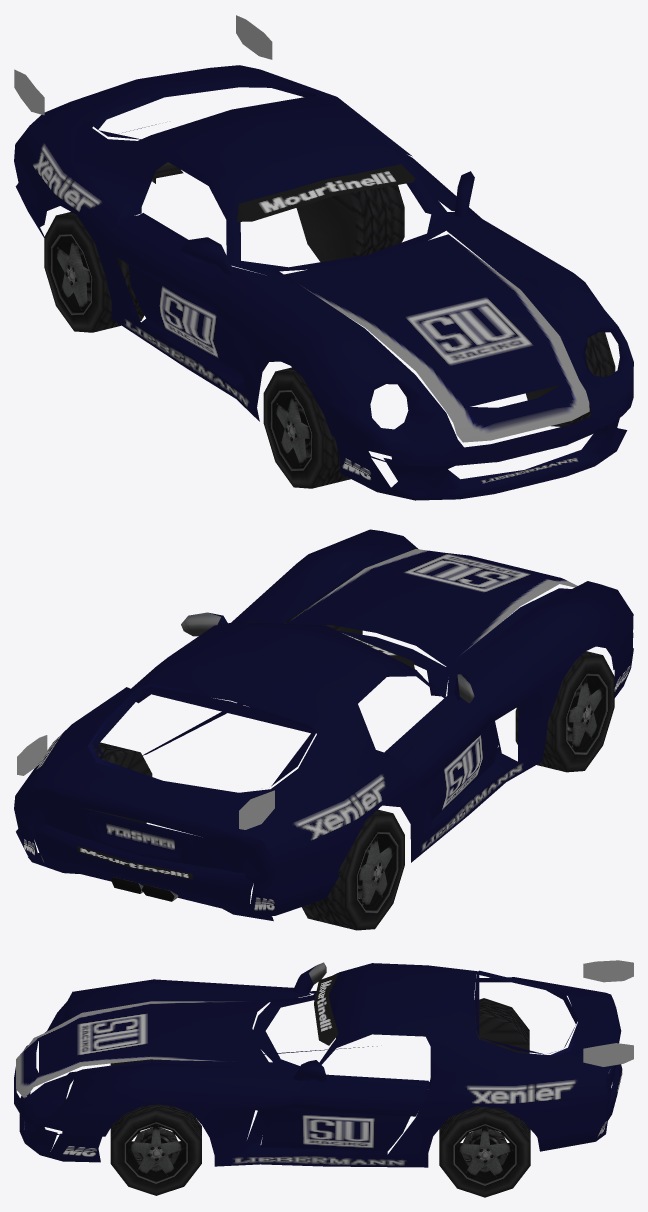
Rendered from car-MSCL_Car5.glb.
3 views of the same model, one above another, from view 1: azimuth 30°, elevation 25°; view 2: azimuth 150°, elevation 25°; view 3: azimuth 270°, elevation 25° (orthographic). The views are drawn at different scales.
Parts seen in each view (by area): view 1: MSCL_Car5; view 2: MSCL_Car5; view 3: MSCL_Car5.
Part boxes in pixels (x1,y1,x2,y2): MSCL_Car5: (14,15,633,500); MSCL_Car5: (14,529,633,930); MSCL_Car5: (14,960,633,1197).
Bounding box in the file's own units: 1.95 × 1.23 × 4.47.
19 materials, 19 textured.
